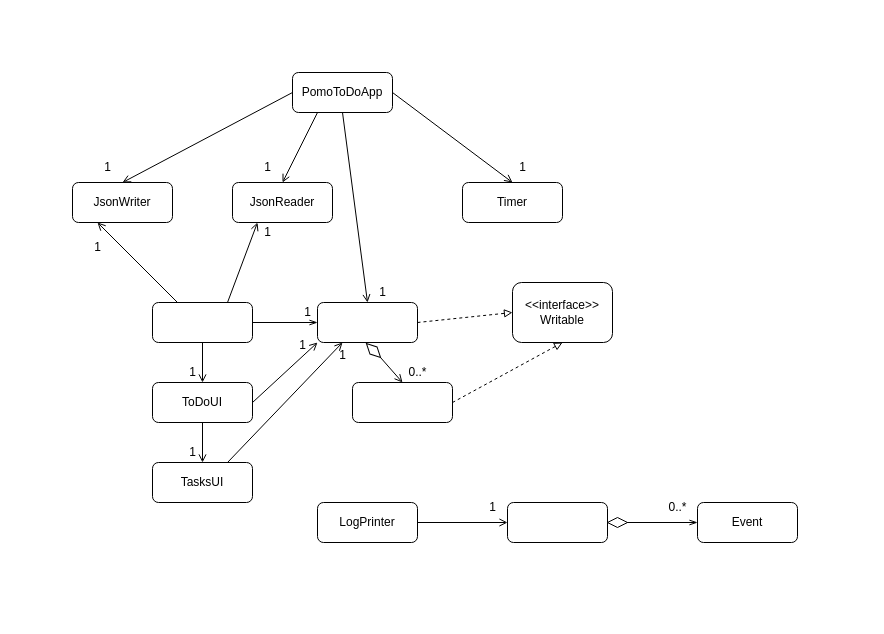
The diagram is 884 pixels wide and 634 high, and some of its shapes have lost their labels. Here are the shapes that lost their labels. From the top down, the centre of each, then its label:
At [202,322]: "PomoToDoUI".
At [367,322]: "ToDoList".
At [402,402]: "Task".
At [557,522]: "EventLog".
